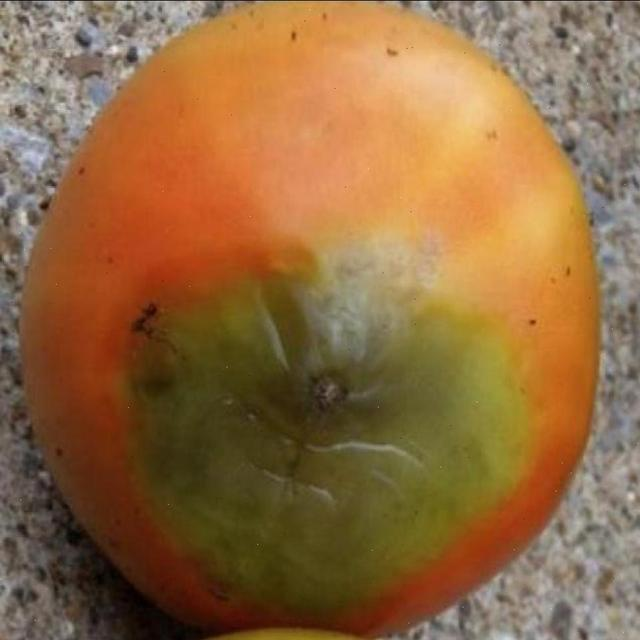Blossom End Rot Fruit: (80, 162, 359, 405)
